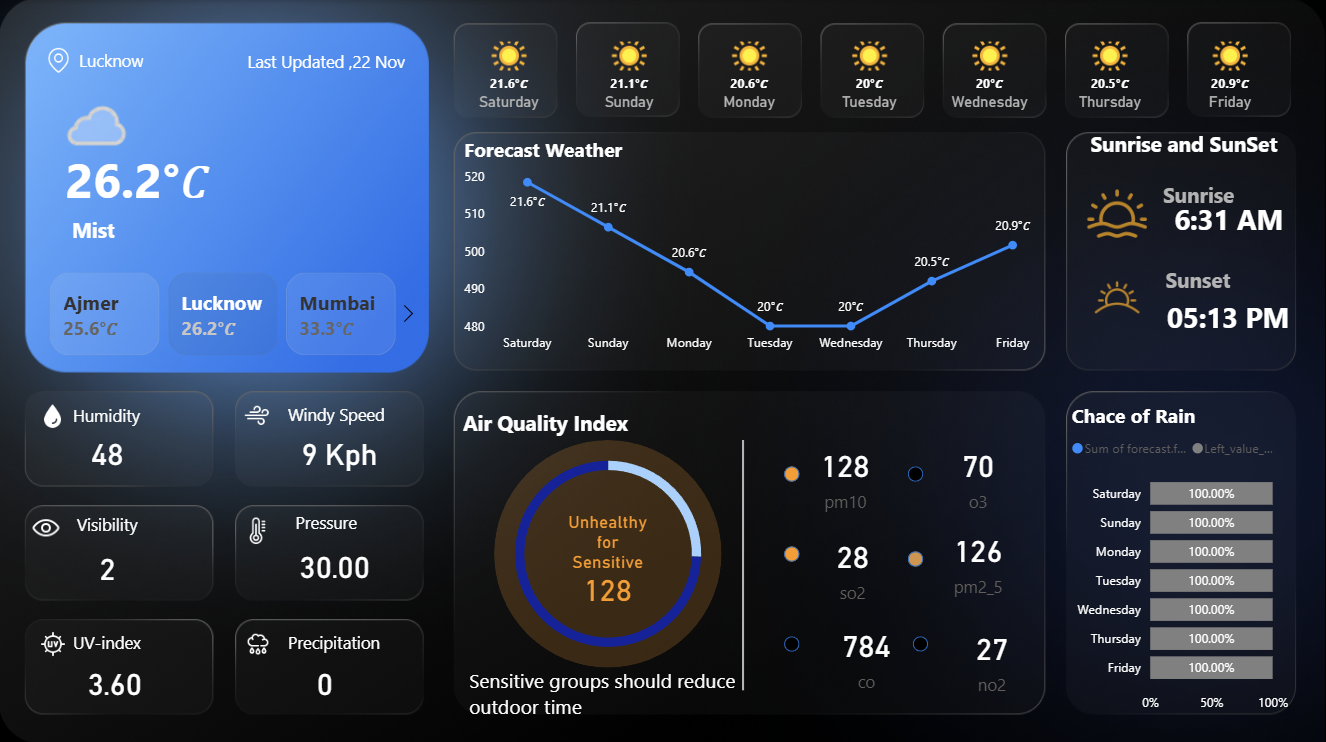

The page's visual inventory and layout, read from the dashboard file:
{"tool":"powerbi","page":{"name":"Page 1","canvas":[1280,720],"ordinal":0},"visuals":[{"type":"shape","box":[478,424.6,219.7,219.7],"z":0},{"type":"advancedSlicerVisual","fields":{"Values":["Locations.location.name"]},"box":[24.5,258.3,386.7,90.9],"z":1000},{"type":"shape","box":[41.1,125.6,186,95.4],"z":2000},{"type":"shape","box":[1.2,202.9,179.9,37.4],"z":3000},{"type":"shape","box":[45.8,39.6,124.9,35.9],"z":4000},{"type":"shape","box":[227.6,39.6,175.6,37.1],"z":5000},{"type":"image","box":[45.8,44.5,23.5,27.2],"z":6000},{"type":"cardVisual","fields":{"Data":["Min(current.current.condition.icon)"]},"box":[25.4,83.3,130.4,119.5],"z":7000},{"type":"image","box":[21,494.5,49.5,30],"z":8000},{"type":"textbox","title":"Humidity","box":[65.9,389.6,83.9,24],"z":9000},{"type":"textbox","title":"Visibility","box":[70.4,494.5,97.4,24],"z":10000},{"type":"image","box":[21,389.6,62.9,24],"z":11000},{"type":"image","box":[217.7,388.3,63.1,24.7],"z":12000},{"type":"textbox","title":"Windy Speed","box":[273.3,388.3,110.1,24.7],"z":13000},{"type":"textbox","title":"Precipitation","box":[273.3,609.7,100.2,24.7],"z":14000},{"type":"textbox","title":"UV-index","box":[66.8,609.7,84.1,24.7],"z":15000},{"type":"textbox","title":"Pressure","box":[280.7,493.4,82.9,24.7],"z":16000},{"type":"image","box":[21,609.7,63.1,24.7],"z":17000},{"type":"image","box":[218.9,609.7,63.1,24.7],"z":18000},{"type":"image","box":[218.9,499.2,62.7,25.6],"z":19000},{"type":"card","fields":{"Values":["Sum(current.current.humidity)"]},"box":[62.9,413.6,83.9,46.5],"z":20000},{"type":"card","fields":{"Values":["_measures.Wind_Speed"]},"box":[272.4,413.8,111.9,45.7],"z":21000},{"type":"card","fields":{"Values":["Sum(current.current.pressure_in)"]},"box":[281.7,523,83.9,46.5],"z":22000},{"type":"card","fields":{"Values":["Sum(current.current.vis_km)"]},"box":[62.9,524.5,83.9,46.5],"z":23000},{"type":"card","fields":{"Values":["Sum(current.current.uv)"]},"box":[70.4,635.4,83.9,46.5],"z":24000},{"type":"card","fields":{"Values":["Sum(current.current.precip_in)"]},"box":[272.7,635.4,83.9,46.5],"z":25000},{"type":"advancedSlicerVisual","fields":{"Values":["forcast_day.Day_Name"]},"box":[432.8,21.2,818,103.2],"z":26000},{"type":"lineChart","title":" Forecast Weather","fields":{"Y":["Sum(forcast_day.forecast.forecastday.day.avgtemp_c)"],"Category":["forecast_day.Day_Name"]},"box":[443.6,131.4,570.8,217.6],"z":27000},{"type":"textbox","title":"Sunrise and SunSet","box":[1048.4,125.3,201.2,35.3],"z":28000},{"type":"shape","box":[1062.6,221.7,188.6,95],"z":29000},{"type":"shape","box":[1107.2,177.1,158.4,67.7],"z":30000},{"type":"shape","box":[1078.4,152.6,158.4,67.7],"z":31000},{"type":"shape","box":[1091.4,257.7,188.6,95],"z":32000},{"type":"image","box":[1039.6,177.1,77.8,57.6],"z":33000},{"type":"image","box":[1039.6,257.7,77.8,57.6],"z":34000},{"type":"hundredPercentStackedBarChart","title":"Chace of Rain","fields":{"Category":["forecast_day.Day_Name"],"Y":["Sum(forecast_day.forecast.forecastday.day.daily_chance_of_rain)","current.Left_value_Rain"]},"box":[1029.9,388.4,219.2,307.8],"z":35000},{"type":"textbox","title":"Air Quality Index","box":[443.2,394.9,201.5,35.5],"z":36000},{"type":"card","fields":{"Values":["Sum(current.current.air_quality.pm10)"]},"box":[764.6,414.2,103.9,92],"z":37000},{"type":"card","fields":{"Values":["Sum(current.current.air_quality.o3)"]},"box":[892.9,414.2,104.8,91.9],"z":38000},{"type":"card","fields":{"Values":["Sum(current.current.air_quality.so2)"]},"box":[772,501.8,103.9,90.6],"z":39000},{"type":"card","fields":{"Values":["Sum(current.current.air_quality.pm2_5)"]},"box":[892.9,496.4,104.8,91.9],"z":40000},{"type":"card","fields":{"Values":["Sum(current.current.air_quality.co)"]},"box":[785.4,587.9,103.9,92],"z":41000},{"type":"card","fields":{"Values":["Sum(current.current.air_quality.no2)"]},"box":[905.8,589.9,104.8,91.9],"z":42000},{"type":"shape","box":[757.1,449.8,15,15],"z":43000},{"type":"shape","box":[877.4,531.5,15,15],"z":44000},{"type":"shape","box":[877.4,449.8,15,15],"z":45000},{"type":"shape","box":[757.1,527,15,15],"z":46000},{"type":"shape","box":[757.1,614.6,15,15],"z":47000},{"type":"shape","box":[881.8,614.6,14.8,14.8],"z":48000},{"type":"shape","box":[697.8,424.6,41.6,242],"z":49000},{"type":"donutChart","fields":{"Y":["Sum(current.current.air_quality.pm10)","_measures.Left_value_PM10"]},"box":[469.1,417.2,237.5,234.6],"z":50000},{"type":"card","fields":{"Values":["Sum(current.current.air_quality.pm10)"]},"box":[535.9,492.9,103.9,92],"z":51000},{"type":"textbox","box":[448.3,644.3,279.1,47.5],"z":52000}]}

Visuals, with their boxes in screenshot pixels (x1, y1, x2, y2), scaled from the page's 1280x720 canvas onto the 1326x742 screenshot:
shape: BBox(495, 438, 723, 664)
advancedSlicerVisual - Locations.location.name: BBox(25, 266, 426, 360)
shape: BBox(43, 129, 235, 228)
shape: BBox(1, 209, 188, 248)
shape: BBox(47, 41, 177, 78)
shape: BBox(236, 41, 418, 79)
image: BBox(47, 46, 72, 74)
cardVisual - Min(current.current.condition.icon): BBox(26, 86, 161, 209)
image: BBox(22, 510, 73, 541)
"Humidity" textbox: BBox(68, 402, 155, 426)
"Visibility" textbox: BBox(73, 510, 174, 534)
image: BBox(22, 402, 87, 426)
image: BBox(226, 400, 291, 426)
"Windy Speed" textbox: BBox(283, 400, 397, 426)
"Precipitation" textbox: BBox(283, 628, 387, 654)
"UV-index" textbox: BBox(69, 628, 156, 654)
"Pressure" textbox: BBox(291, 508, 377, 534)
image: BBox(22, 628, 87, 654)
image: BBox(227, 628, 292, 654)
image: BBox(227, 514, 292, 541)
card - Sum(current.current.humidity): BBox(65, 426, 152, 474)
card - _measures.Wind_Speed: BBox(282, 426, 398, 474)
card - Sum(current.current.pressure_in): BBox(292, 539, 379, 587)
card - Sum(current.current.vis_km): BBox(65, 541, 152, 588)
card - Sum(current.current.uv): BBox(73, 655, 160, 703)
card - Sum(current.current.precip_in): BBox(283, 655, 369, 703)
advancedSlicerVisual - forcast_day.Day_Name: BBox(448, 22, 1296, 128)
" Forecast Weather" lineChart: BBox(460, 135, 1051, 360)
"Sunrise and SunSet" textbox: BBox(1086, 129, 1295, 166)
shape: BBox(1101, 228, 1296, 326)
shape: BBox(1147, 183, 1311, 252)
shape: BBox(1117, 157, 1281, 227)
shape: BBox(1131, 266, 1325, 363)
image: BBox(1077, 183, 1158, 242)
image: BBox(1077, 266, 1158, 325)
"Chace of Rain" hundredPercentStackedBarChart: BBox(1067, 400, 1294, 717)
"Air Quality Index" textbox: BBox(459, 407, 668, 444)
card - Sum(current.current.air_quality.pm10): BBox(792, 427, 900, 522)
card - Sum(current.current.air_quality.o3): BBox(925, 427, 1034, 522)
card - Sum(current.current.air_quality.so2): BBox(800, 517, 907, 611)
card - Sum(current.current.air_quality.pm2_5): BBox(925, 512, 1034, 606)
card - Sum(current.current.air_quality.co): BBox(814, 606, 921, 701)
card - Sum(current.current.air_quality.no2): BBox(938, 608, 1047, 703)
shape: BBox(784, 464, 800, 479)
shape: BBox(909, 548, 924, 563)
shape: BBox(909, 464, 924, 479)
shape: BBox(784, 543, 800, 559)
shape: BBox(784, 633, 800, 649)
shape: BBox(913, 633, 929, 649)
shape: BBox(723, 438, 766, 687)
donutChart - Sum(current.current.air_quality.pm10) x _measures.Left_value_PM10: BBox(486, 430, 732, 672)
card - Sum(current.current.air_quality.pm10): BBox(555, 508, 663, 603)
textbox: BBox(464, 664, 754, 713)
